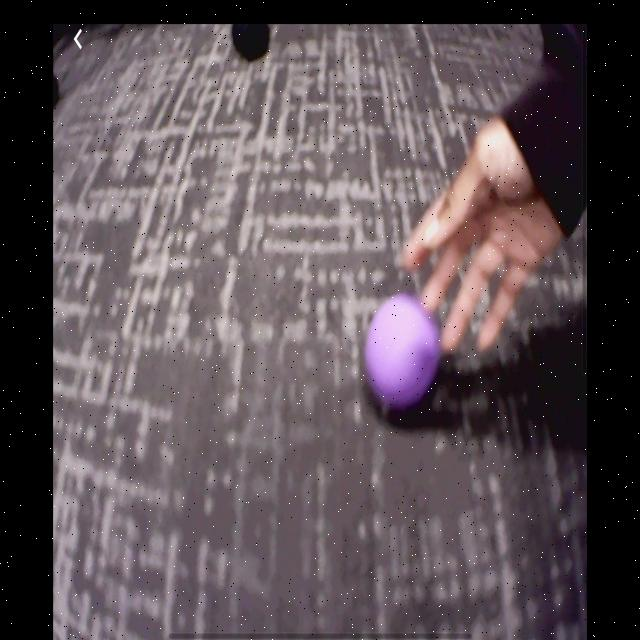ball: (363, 291, 442, 412)
